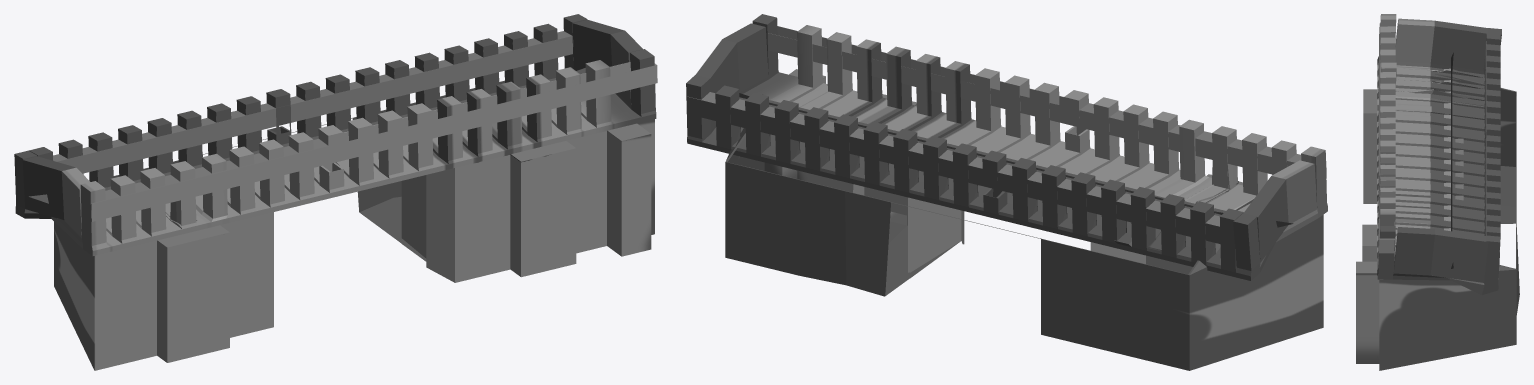
The model's file is PalaceGate.fbx.
The picture shows the model from 3 angles, left to right: view 1: azimuth 30°, elevation 25°; view 2: azimuth 150°, elevation 25°; view 3: azimuth 270°, elevation 25°; orthographic projection. The views are drawn at different scales.
Parts seen in each view (by area): view 1: Cube, roof, roof.002, roof.003, roof.001; view 2: roof, Cube, roof.003, roof.002; view 3: roof, Cube, roof.002, roof.003, roof.001.
Part boxes in pixels (x1=…): Cube: x1=54, y1=80, x2=654, y2=370; roof: x1=14, y1=14, x2=656, y2=256; roof.002: x1=91, y1=62, x2=657, y2=221; roof.003: x1=53, y1=31, x2=572, y2=173; roof.001: x1=29, y1=68, x2=585, y2=203; roof: x1=686, y1=14, x2=1327, y2=280; Cube: x1=725, y1=69, x2=1323, y2=370; roof.003: x1=687, y1=92, x2=1220, y2=243; roof.002: x1=768, y1=26, x2=1326, y2=178; roof: x1=1377, y1=14, x2=1501, y2=294; Cube: x1=1356, y1=73, x2=1519, y2=370; roof.002: x1=1378, y1=23, x2=1394, y2=253; roof.003: x1=1485, y1=41, x2=1499, y2=265; roof.001: x1=1451, y1=52, x2=1453, y2=268.
Size of the model in its own units: 3369 by 959 by 1008.
1 material, 1 textured.
